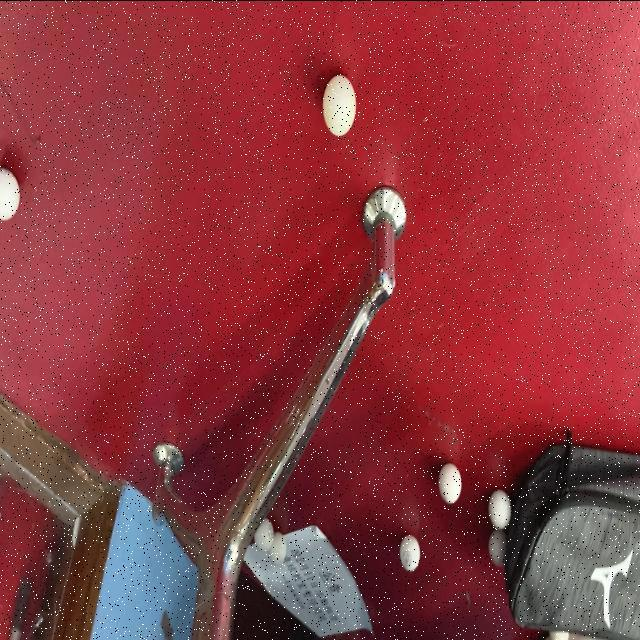ping-pong-ball: (318, 70, 358, 140), (435, 456, 465, 510), (486, 482, 513, 534), (396, 529, 424, 576), (267, 528, 290, 568), (256, 512, 274, 554)
